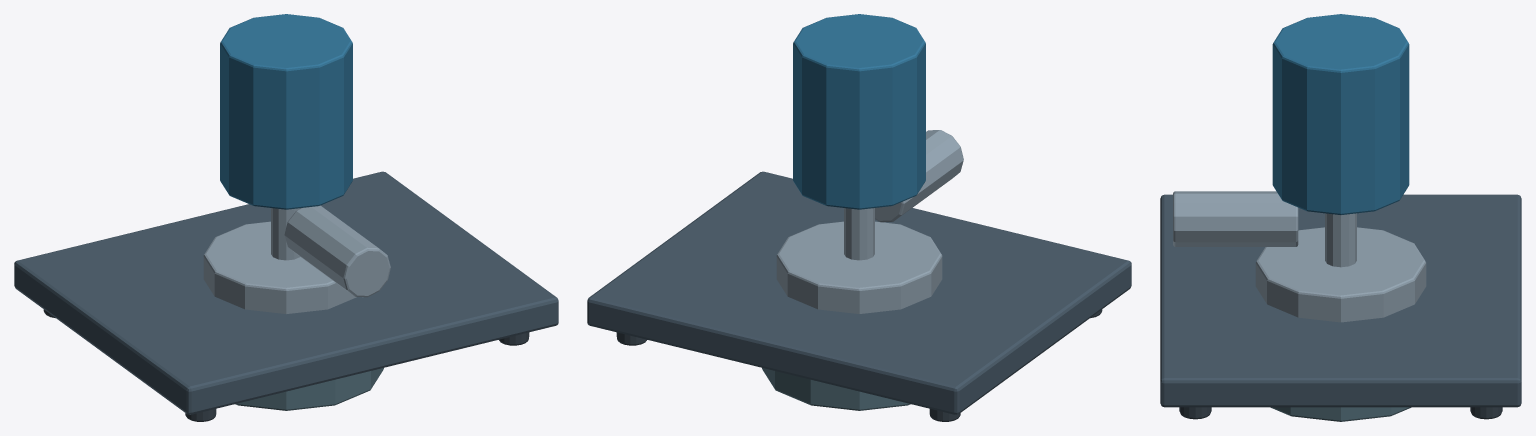
Rendered from leachate-pump-lod2.glb.
The picture shows the model from 3 angles, left to right: view 1: azimuth 30°, elevation 25°; view 2: azimuth 150°, elevation 25°; view 3: azimuth 270°, elevation 25°; orthographic projection. The views are drawn at different scales.
Parts seen in each view (by area): view 1: drive_base, leachate_motor, leachate_impeller_housing, leachate_inlet, leachate_intake_cage, leachate_shaft; view 2: drive_base, leachate_motor, leachate_impeller_housing, leachate_intake_cage, leachate_inlet, leachate_shaft; view 3: drive_base, leachate_motor, leachate_impeller_housing, leachate_inlet, leachate_shaft, leachate_intake_cage, base_mount_1.85_1.4500000000000002, base_mount_1.85_-1.4500000000000002.
Boxes of the visible parts, x1,y1,x2,y2 form: drive_base: (14,171,558,414); leachate_motor: (220,14,352,209); leachate_impeller_housing: (203,221,356,313); leachate_inlet: (284,205,390,297); leachate_intake_cage: (235,368,383,410); leachate_shaft: (271,208,301,260); drive_base: (587,171,1131,414); leachate_motor: (793,14,925,209); leachate_impeller_housing: (776,221,942,313); leachate_intake_cage: (762,368,910,410); leachate_inlet: (875,130,963,222); leachate_shaft: (844,208,874,260); drive_base: (1160,194,1521,407); leachate_motor: (1272,14,1409,214); leachate_impeller_housing: (1255,227,1426,322); leachate_inlet: (1173,191,1298,246); leachate_shaft: (1325,213,1356,267); leachate_intake_cage: (1270,407,1411,421); base_mount_1.85_1.4500000000000002: (1470,407,1502,419); base_mount_1.85_-1.4500000000000002: (1179,407,1211,419).
Bounding box in the file's own units: 4.4 × 3.73 × 3.6.
